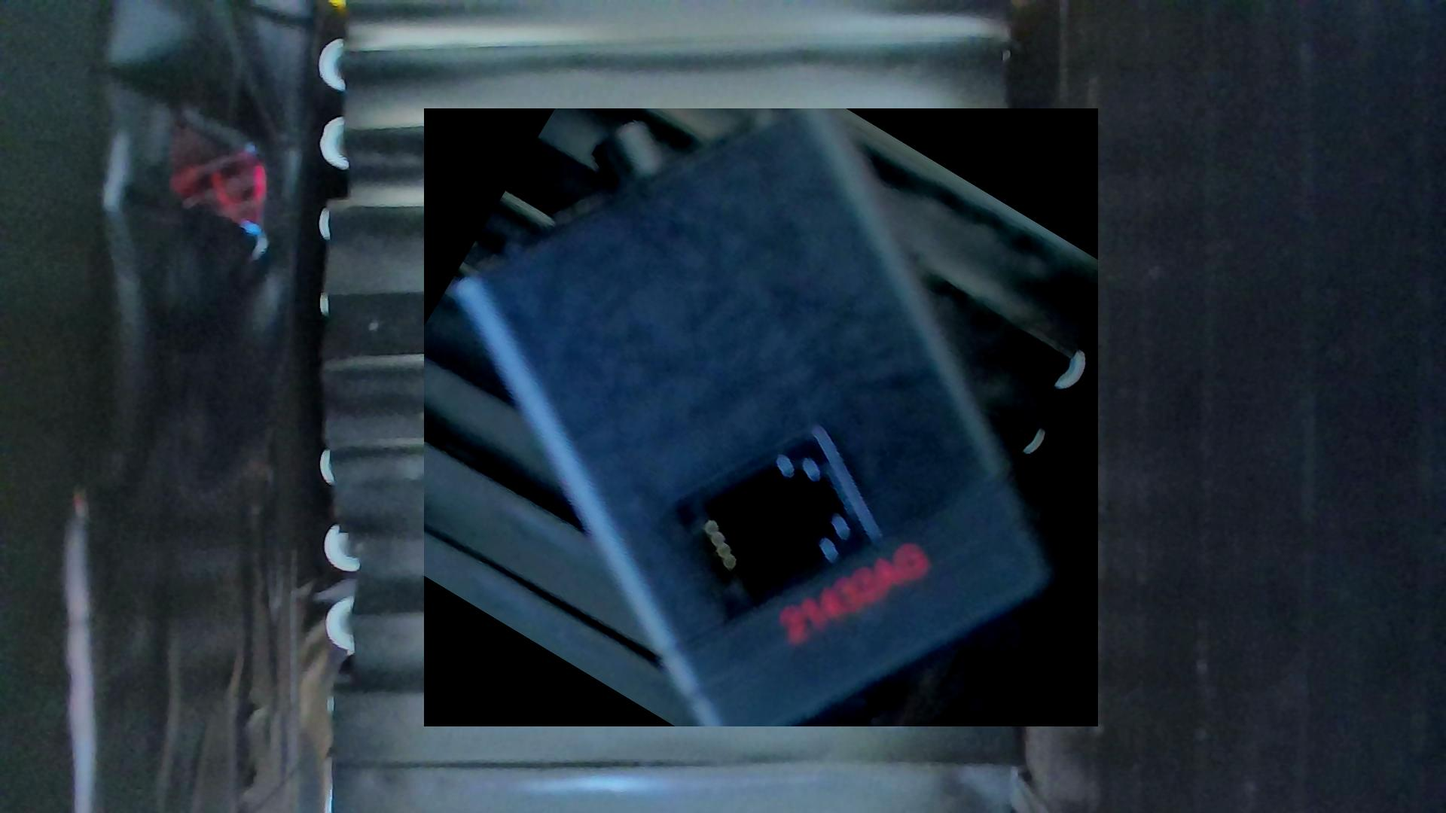motor: (424, 109, 1098, 726)
